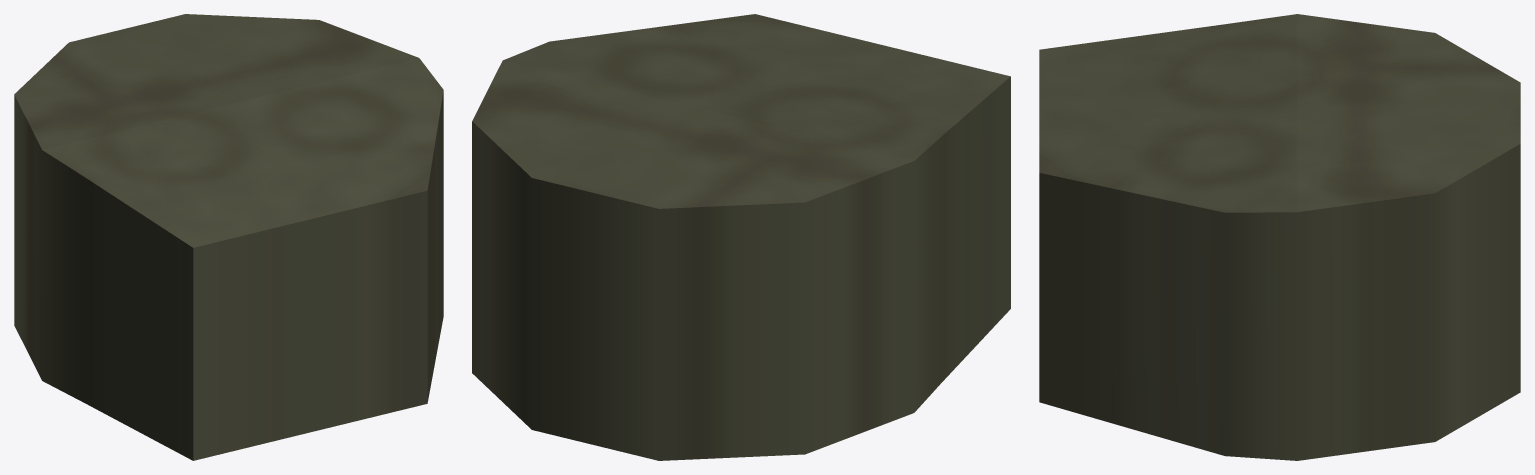
Rendered from T-35_Turret_Small_Collider.fbx.
The picture shows the model from 3 angles, left to right: view 1: azimuth 30°, elevation 25°; view 2: azimuth 150°, elevation 25°; view 3: azimuth 270°, elevation 25°; orthographic projection. The views are drawn at different scales.
Visible parts, largest first — view 1: T-35_Turret_Small_Collider; view 2: T-35_Turret_Small_Collider; view 3: T-35_Turret_Small_Collider.
Boxes of the visible parts, left/top/right/bottom form: T-35_Turret_Small_Collider: left=14, top=14, right=443, bottom=460; T-35_Turret_Small_Collider: left=472, top=14, right=1010, bottom=460; T-35_Turret_Small_Collider: left=1039, top=14, right=1520, bottom=460.
Size of the model in its own units: 0.94 by 0.55 by 0.9639.
